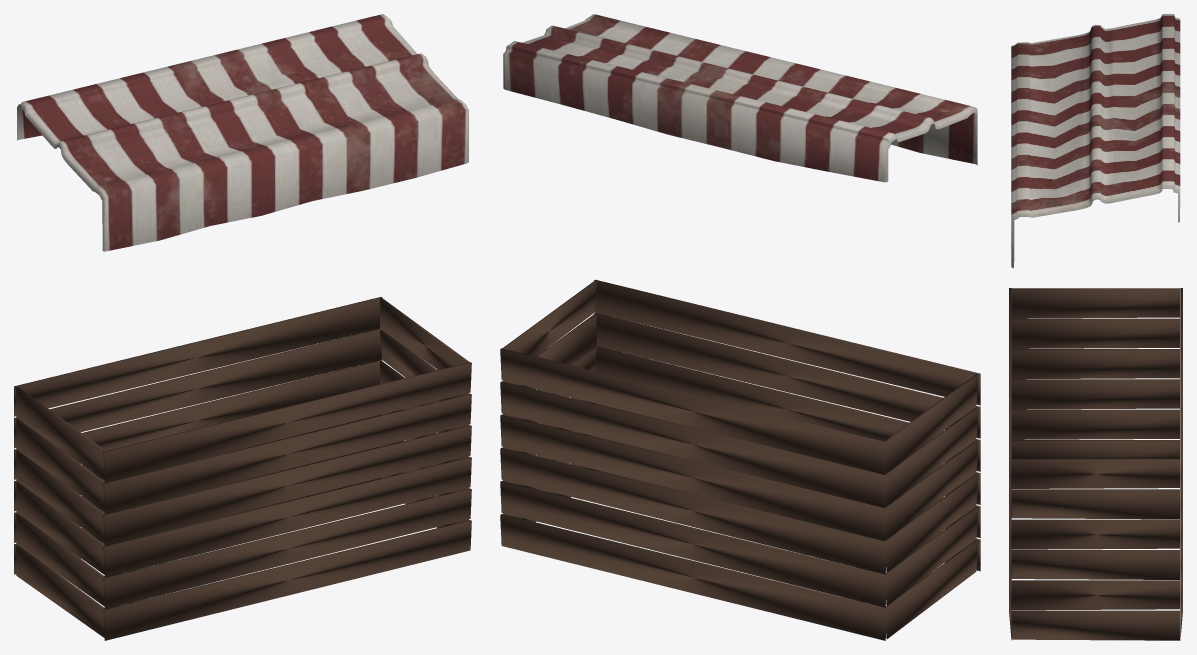
The model's file is market-stall-b.lod1.glb.
3 views of the same model, side by side, from view 1: azimuth 30°, elevation 25°; view 2: azimuth 150°, elevation 25°; view 3: azimuth 270°, elevation 25° (orthographic). The views are drawn at different scales.
Parts seen in each view (by area): view 1: Stall_Stall_0, Stall_Stall_Fabric_0; view 2: Stall_Stall_0, Stall_Stall_Fabric_0; view 3: Stall_Stall_0, Stall_Stall_Fabric_0.
Boxes of the visible parts, box(x1,y1,x2,y2) form: Stall_Stall_0: box(14, 297, 471, 640); Stall_Stall_Fabric_0: box(17, 14, 468, 251); Stall_Stall_0: box(500, 279, 980, 640); Stall_Stall_Fabric_0: box(503, 14, 977, 182); Stall_Stall_0: box(1009, 288, 1182, 640); Stall_Stall_Fabric_0: box(1011, 14, 1180, 267).
Bounding box in the file's own units: 4.4 × 5.43 × 1.88.
Materials: 2 (1 with a texture image).
